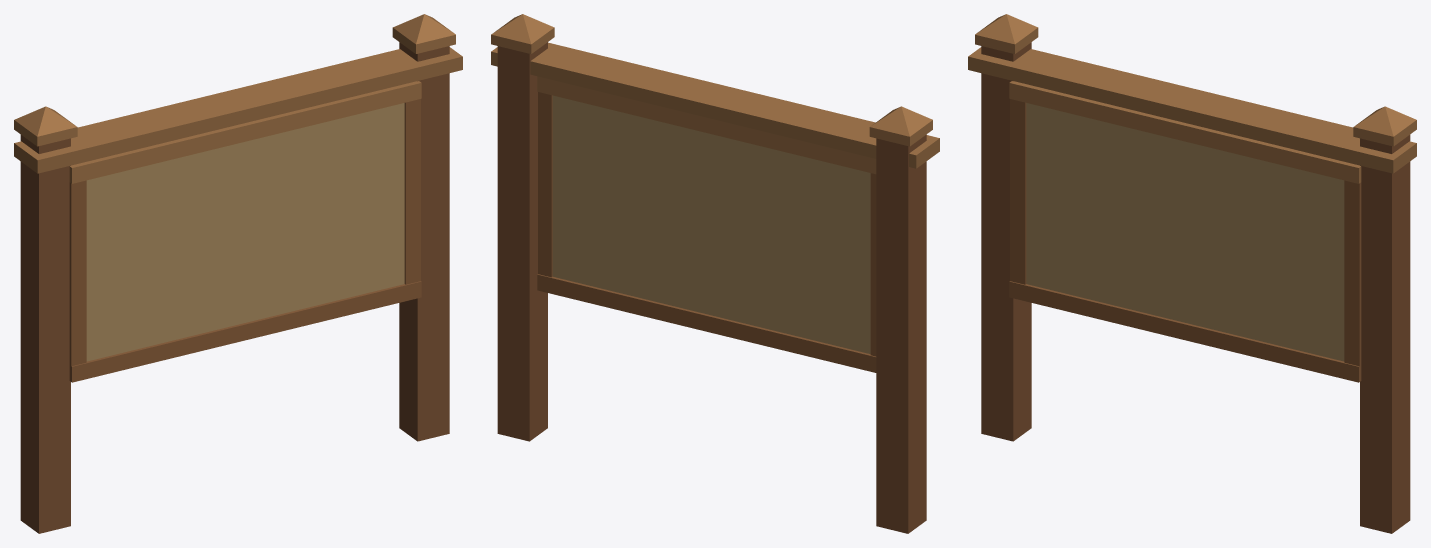
File: sign_board.fbx
3 views of the same model, side by side, from view 1: azimuth 30°, elevation 25°; view 2: azimuth 150°, elevation 25°; view 3: azimuth 330°, elevation 25° (orthographic).
Visible parts, largest first — view 1: sign_board; view 2: sign_board; view 3: sign_board.
Part boxes in pixels (left/top/right/bottom): sign_board: left=14, top=14, right=462, bottom=533; sign_board: left=491, top=14, right=939, bottom=533; sign_board: left=968, top=14, right=1416, bottom=533.
Bounding box in the file's own units: 7.3 × 6.84 × 0.795.
